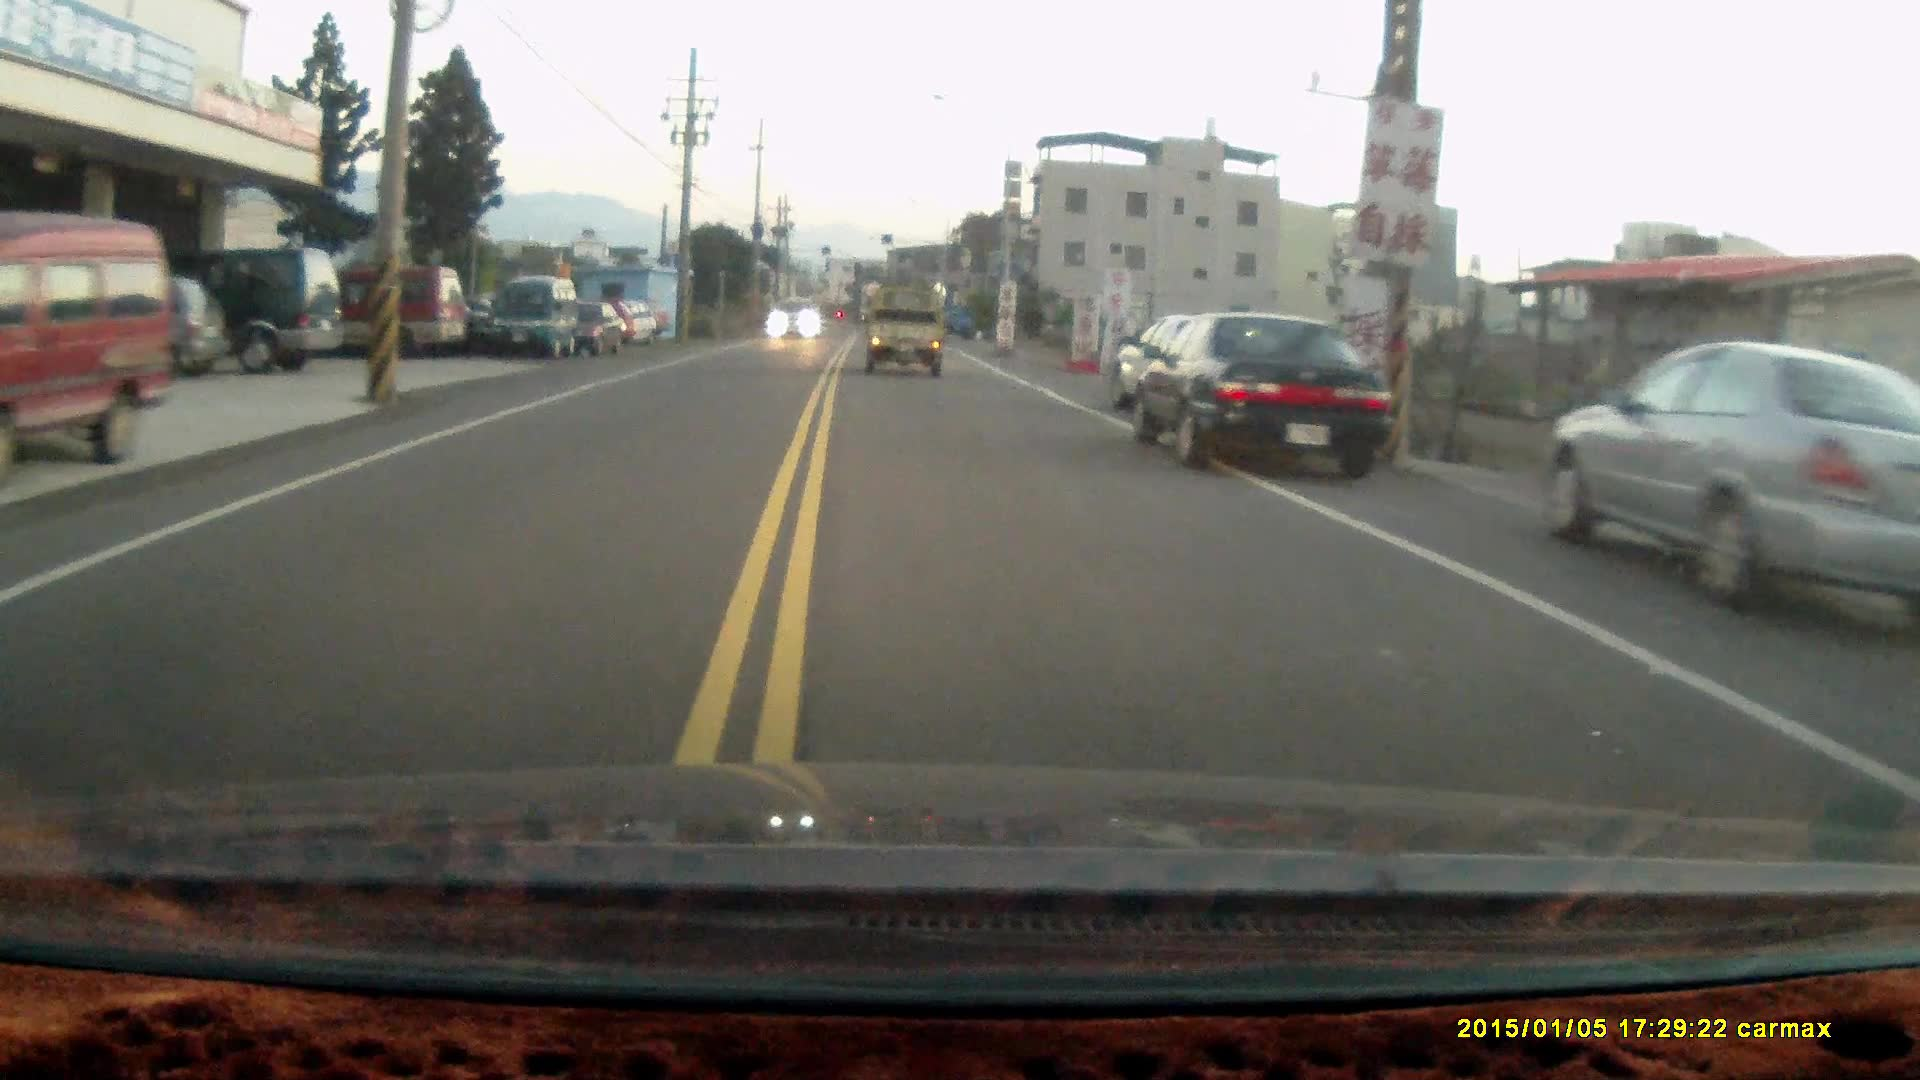vehicle: (1548, 340, 1920, 646), (1125, 311, 1394, 485), (3, 222, 174, 481), (111, 243, 349, 371), (1110, 318, 1294, 429), (284, 272, 467, 365), (484, 284, 583, 368), (862, 293, 949, 385), (551, 305, 628, 363), (764, 305, 822, 345)
